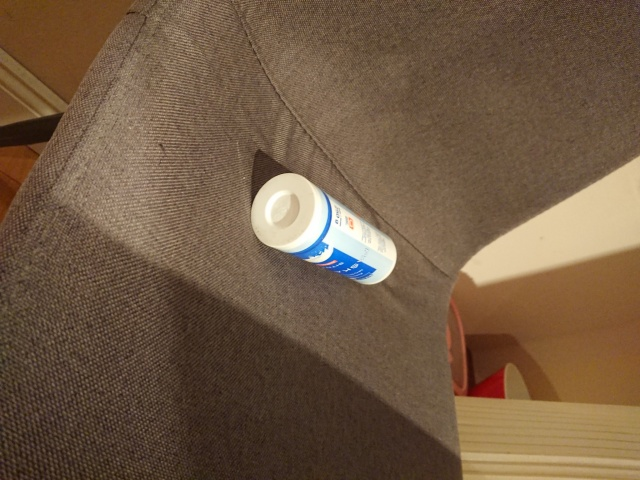Solana Pag Fine Sea Salt 250g: (248, 170, 400, 288)
